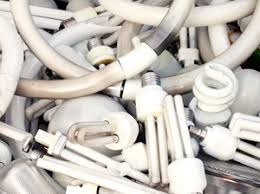glass: (31, 126, 150, 192), (161, 92, 209, 194), (137, 70, 172, 189), (183, 120, 260, 171), (190, 61, 242, 127), (65, 113, 146, 150), (169, 8, 205, 73)
